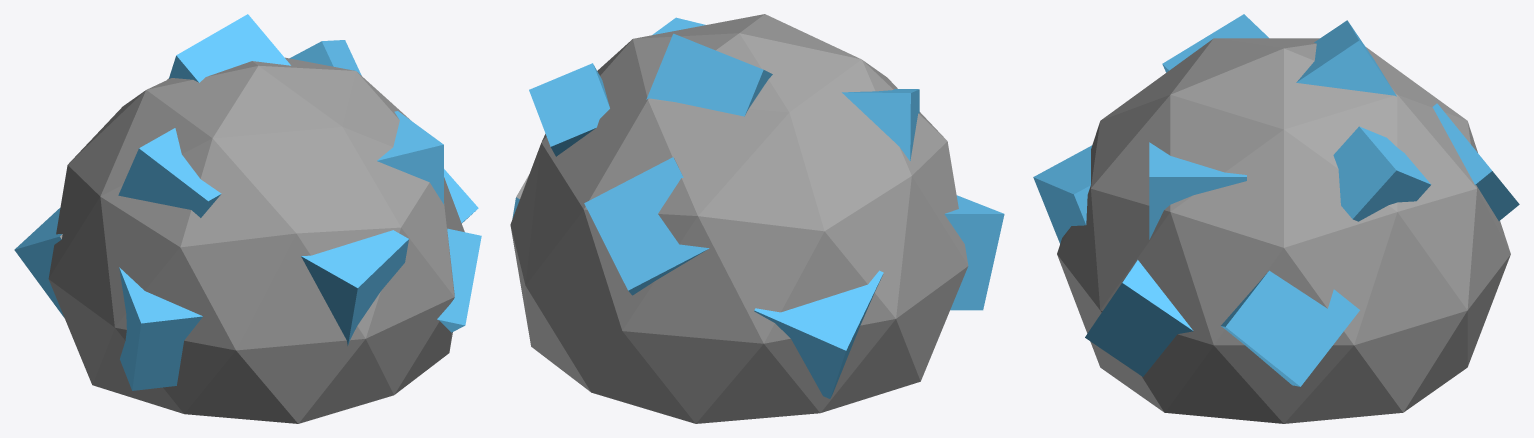
File: Diamond.fbx
3 renders of one model, left to right at view 1: azimuth 30°, elevation 25°; view 2: azimuth 150°, elevation 25°; view 3: azimuth 270°, elevation 25°, orthographic. The views are drawn at different scales.
Visible parts, largest first — view 1: Kula ico.001; view 2: Kula ico.001; view 3: Kula ico.001.
Boxes of the visible parts, x1,y1,x2,y2 form: Kula ico.001: (14, 14, 481, 423); Kula ico.001: (510, 14, 1004, 423); Kula ico.001: (1033, 14, 1519, 423).
Size of the model in its own units: 103 by 76.76 by 107.
